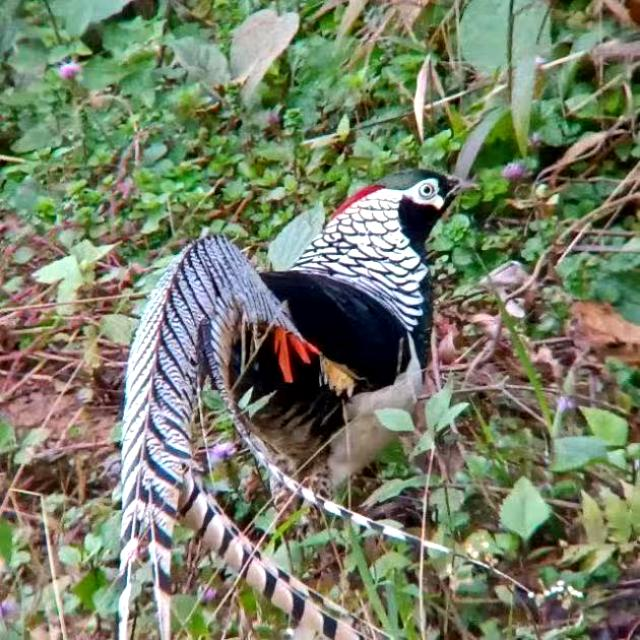Chrysolophus amherstiae: (119, 237, 278, 637), (247, 559, 357, 639)
